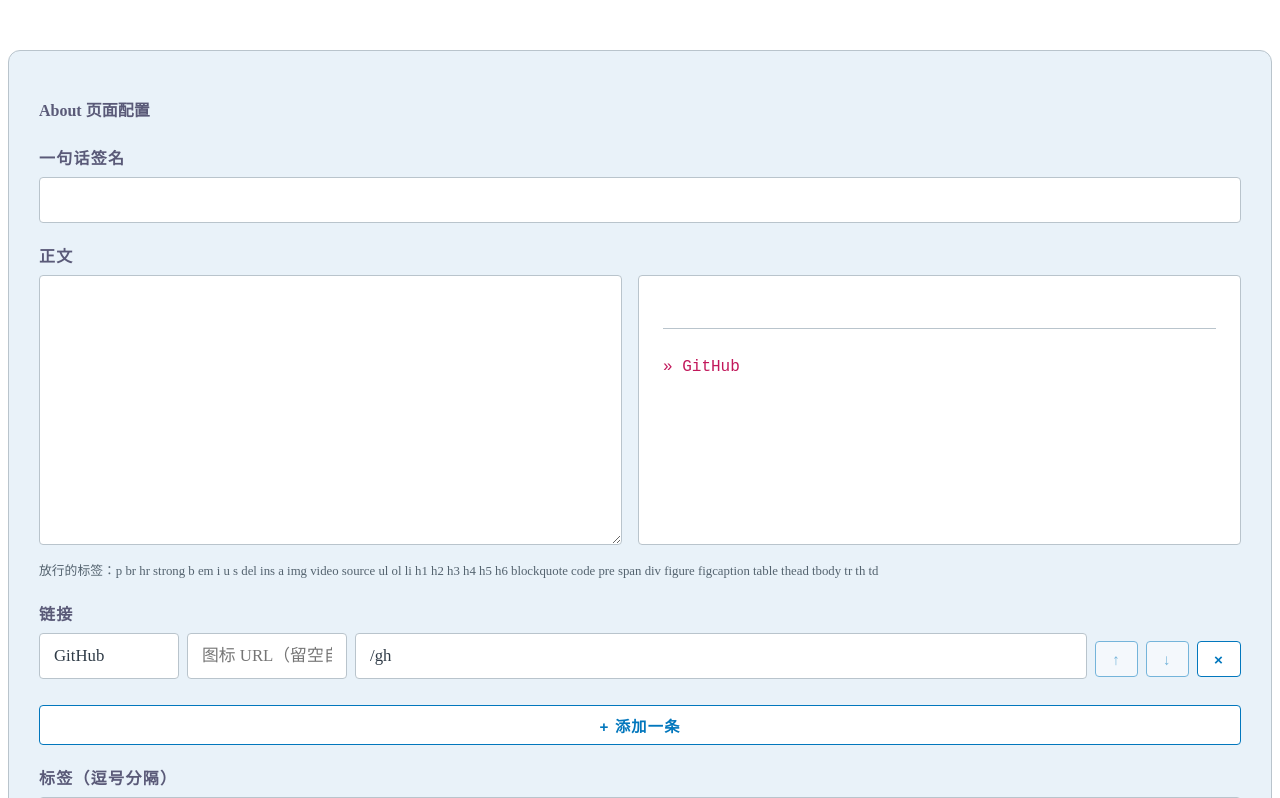
AboutConfigForm › 预览里的签名、标签与链接跟着表单实时变化
The image size is (1280, 798).
Type "新的签名" into the field with class "about-tagline-input". click: (640, 200)
box: x1=39 y1=177 x2=1241 y2=223
(page scrolled)
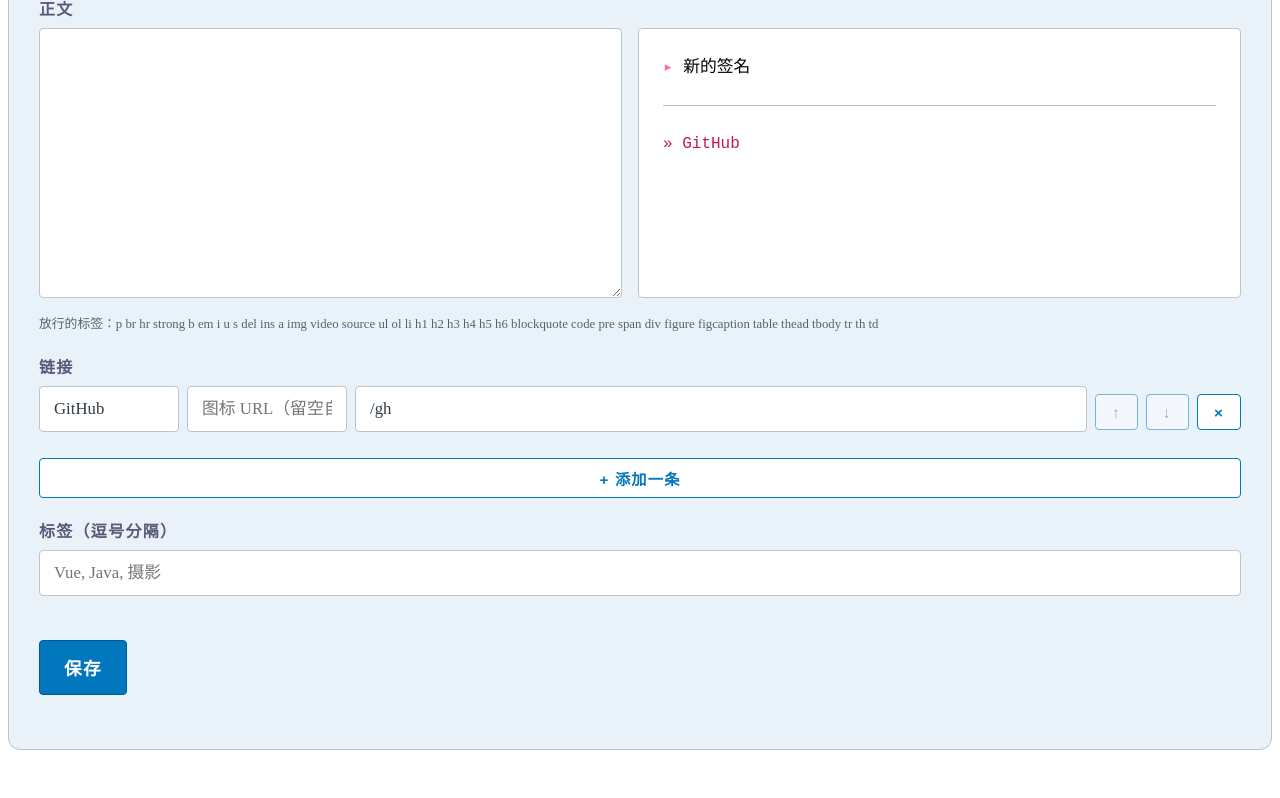
Type "Vue, Java" into the field with class "about-tags-input". click: (640, 574)
box: x1=39 y1=550 x2=1241 y2=596
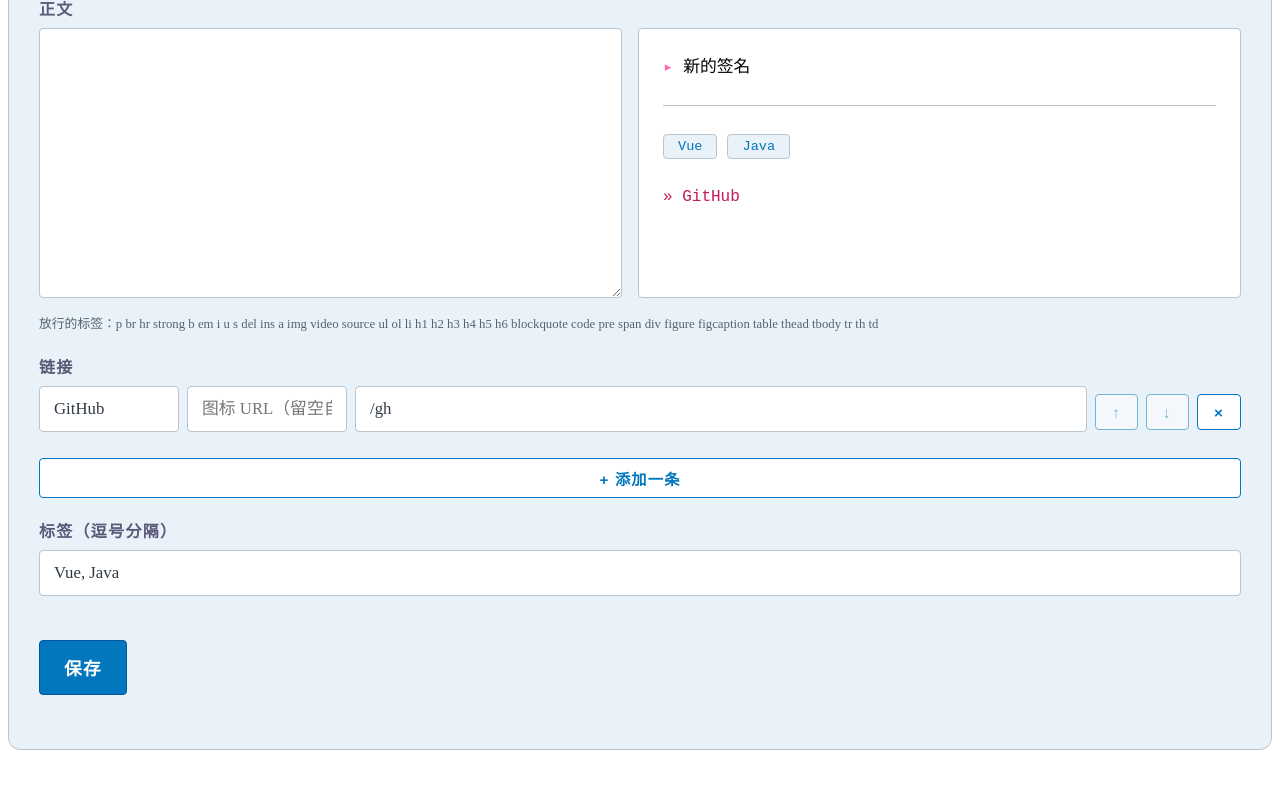
Replace the text in the field with class "link-name" with "GitLab". click: (109, 410)
box: x1=39 y1=386 x2=179 y2=432
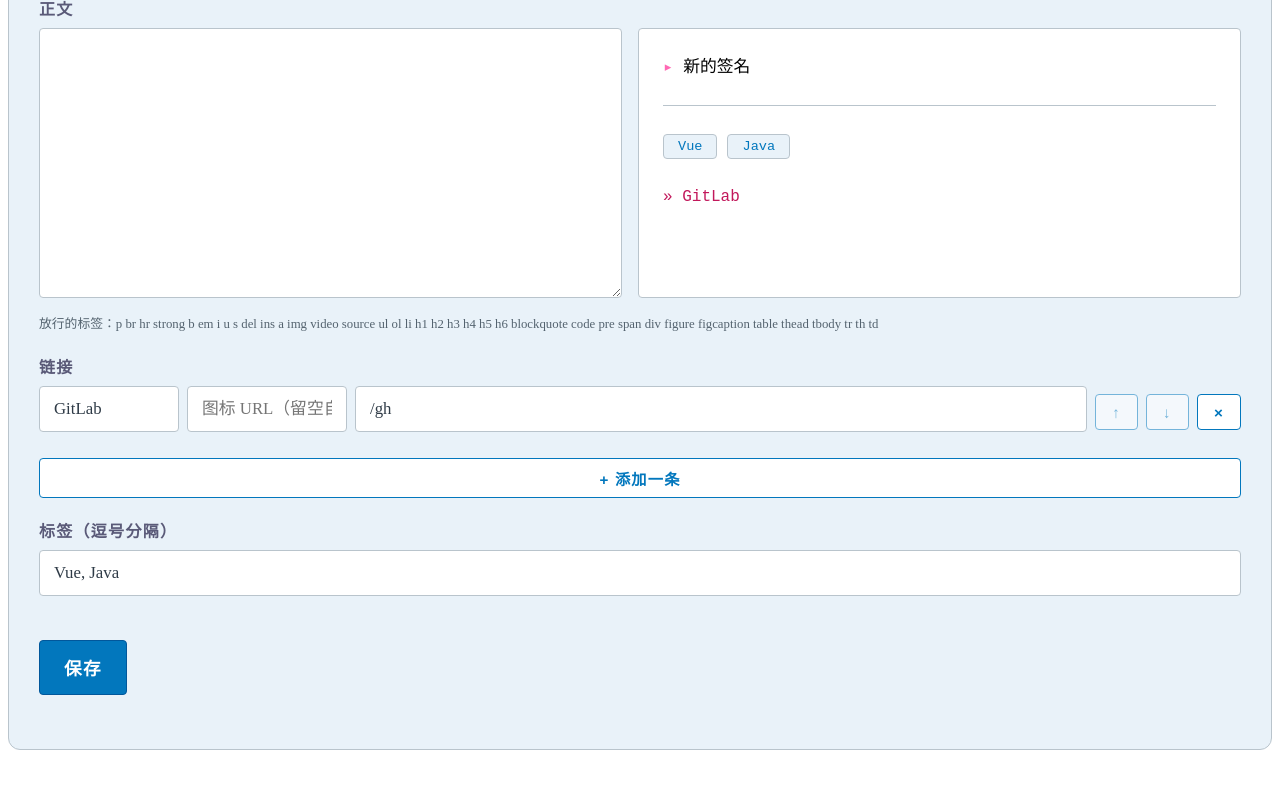
Now the text with class "about-tagline" reads "新的签名", box x1=683 y1=58 x2=750 y2=77
Now the elements with class "about-tag" read "Vue", "Java", in this order, box x1=663 y1=134 x2=718 y2=159; x1=728 y1=134 x2=790 y2=159
Now the link with class "about-link" shows "GitLab", box x1=663 y1=188 x2=757 y2=206
